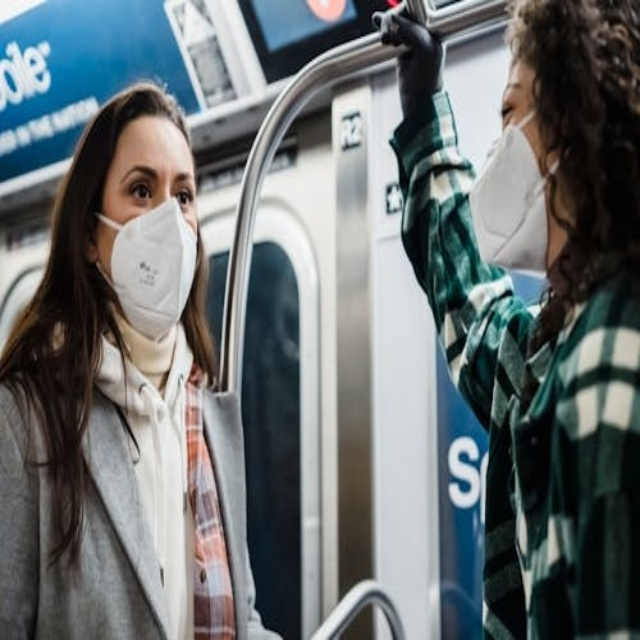Guantes: (380, 5, 445, 114)
Mascara: (469, 107, 557, 275), (94, 198, 197, 338)
Sin_gafas: (129, 181, 153, 202), (175, 188, 193, 207), (501, 103, 515, 125)
